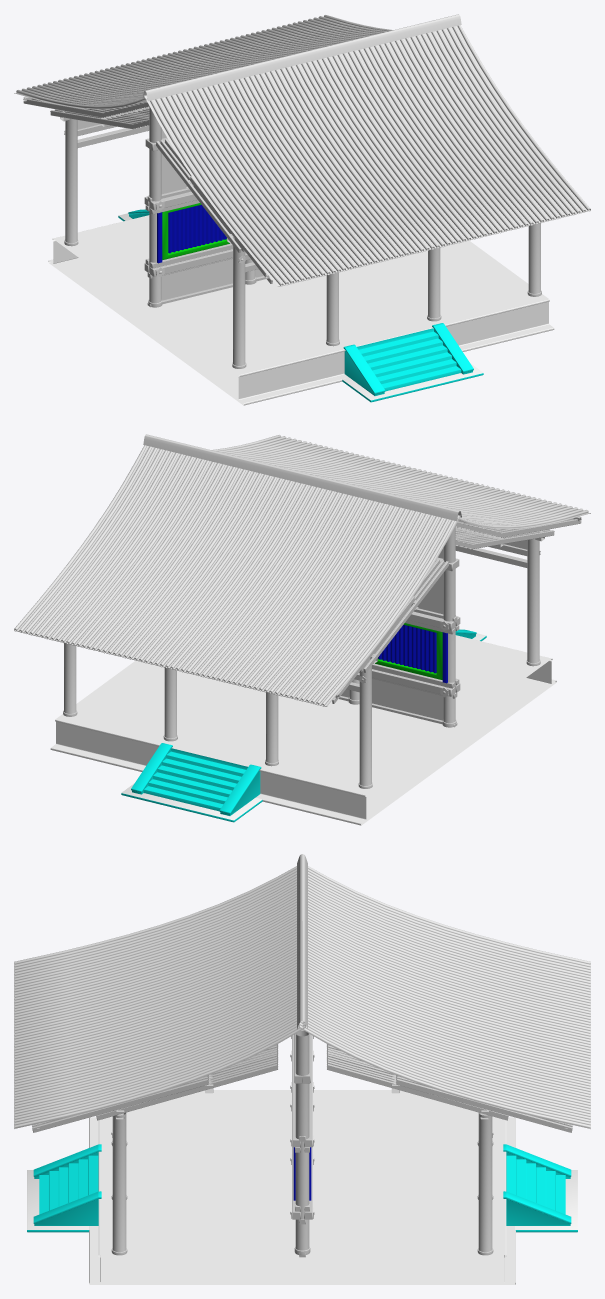
Rendered from Wall Big Loop Window.fbx.
3 renders of one model, top to bottom at view 1: azimuth 30°, elevation 25°; view 2: azimuth 150°, elevation 25°; view 3: azimuth 270°, elevation 25°, orthographic. The views are drawn at different scales.
Parts seen in each view (by area): view 1: S_Heiankyo_Building_Roof_Long.004, S_Heiankyo_Building_Foundation_Loop.022, S_Heiankyo_Building_StairSmall.014, S_Heiankyo_Building_UnderRoof_Long.004, S_Heiankyo_Building_Pillar_2.025, S_Heiankyo_Building_Window_Long.004, S_Heiankyo_Building_WallClosed.082, S_Heiankyo_Building_Pillar_2.044, S_Heiankyo_Building_Pillar_2.033, S_Heiankyo_Building_Pillar_2.026, S_Heiankyo_Building_Pillar_2.032, S_Heiankyo_Building_Bar_Big.1037 (+2 smaller); view 2: S_Heiankyo_Building_Roof_Long.004, S_Heiankyo_Building_Foundation_Loop.022, S_Heiankyo_Building_StairSmall.014, S_Heiankyo_Building_UnderRoof_Long.004, S_Heiankyo_Building_Pillar_2.025, S_Heiankyo_Building_Window_Long.004, S_Heiankyo_Building_WallClosed.082, S_Heiankyo_Building_Pillar_2.044, S_Heiankyo_Building_Pillar_2.033, S_Heiankyo_Building_Pillar_2.026, S_Heiankyo_Building_Pillar_2.032, S_Heiankyo_Building_Bar_Big.1037 (+2 smaller); view 3: S_Heiankyo_Building_Roof_Long.004, S_Heiankyo_Building_Foundation_Loop.022, S_Heiankyo_Building_StairSmall.014, S_Heiankyo_Building_UnderRoof_Long.004, S_Heiankyo_Building_Pillar_2.026, S_Heiankyo_Building_Pillar_2.038, S_Heiankyo_Building_Bar_Big.1038.
Boxes of the visible parts, x1=… form: S_Heiankyo_Building_Roof_Long.004: x1=14, y1=14, x2=590, y2=286; S_Heiankyo_Building_Foundation_Loop.022: x1=48, y1=215, x2=554, y2=405; S_Heiankyo_Building_StairSmall.014: x1=118, y1=209, x2=483, y2=402; S_Heiankyo_Building_UnderRoof_Long.004: x1=23, y1=96, x2=272, y2=283; S_Heiankyo_Building_Pillar_2.025: x1=64, y1=118, x2=246, y2=368; S_Heiankyo_Building_Window_Long.004: x1=157, y1=203, x2=229, y2=263; S_Heiankyo_Building_WallClosed.082: x1=161, y1=128, x2=263, y2=300; S_Heiankyo_Building_Pillar_2.044: x1=148, y1=106, x2=162, y2=307; S_Heiankyo_Building_Pillar_2.033: x1=427, y1=247, x2=441, y2=321; S_Heiankyo_Building_Pillar_2.026: x1=527, y1=223, x2=541, y2=296; S_Heiankyo_Building_Pillar_2.032: x1=326, y1=272, x2=339, y2=346; S_Heiankyo_Building_Bar_Big.1037: x1=144, y1=249, x2=232, y2=276; S_Heiankyo_Building_Roof_Long.004: x1=14, y1=434, x2=590, y2=706; S_Heiankyo_Building_Foundation_Loop.022: x1=50, y1=635, x2=556, y2=825; S_Heiankyo_Building_StairSmall.014: x1=121, y1=629, x2=486, y2=822; S_Heiankyo_Building_UnderRoof_Long.004: x1=332, y1=516, x2=581, y2=703; S_Heiankyo_Building_Pillar_2.025: x1=358, y1=538, x2=540, y2=788; S_Heiankyo_Building_Window_Long.004: x1=375, y1=623, x2=447, y2=683; S_Heiankyo_Building_WallClosed.082: x1=341, y1=548, x2=443, y2=720; S_Heiankyo_Building_Pillar_2.044: x1=442, y1=526, x2=456, y2=727; S_Heiankyo_Building_Pillar_2.033: x1=163, y1=667, x2=177, y2=741; S_Heiankyo_Building_Pillar_2.026: x1=63, y1=643, x2=77, y2=716; S_Heiankyo_Building_Pillar_2.032: x1=265, y1=692, x2=278, y2=766; S_Heiankyo_Building_Bar_Big.1037: x1=372, y1=669, x2=460, y2=696; S_Heiankyo_Building_Roof_Long.004: x1=14, y1=854, x2=590, y2=1128; S_Heiankyo_Building_Foundation_Loop.022: x1=89, y1=1090, x2=515, y2=1284; S_Heiankyo_Building_StairSmall.014: x1=27, y1=1144, x2=577, y2=1232; S_Heiankyo_Building_UnderRoof_Long.004: x1=32, y1=1044, x2=572, y2=1132; S_Heiankyo_Building_Pillar_2.026: x1=111, y1=1112, x2=493, y2=1255; S_Heiankyo_Building_Pillar_2.038: x1=294, y1=1030, x2=310, y2=1255; S_Heiankyo_Building_Bar_Big.1038: x1=292, y1=1035, x2=312, y2=1147.
Bounding box in the file's own units: 815 × 603 × 1189.
